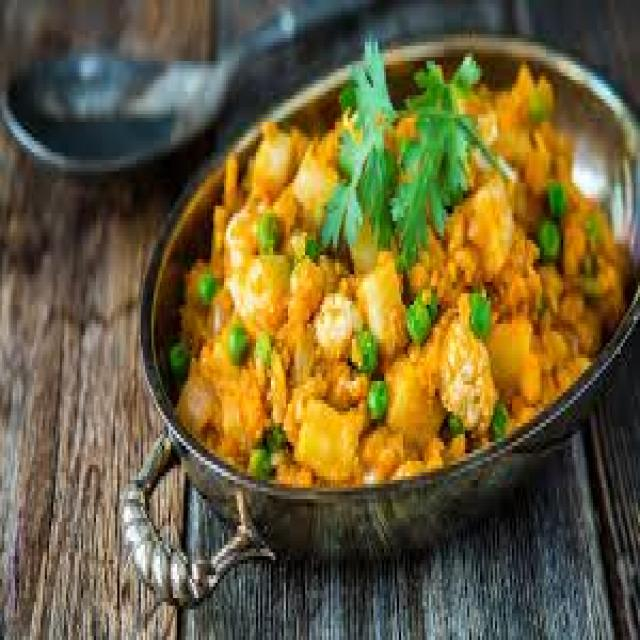Aloo Gobi: (201, 182, 399, 486)
